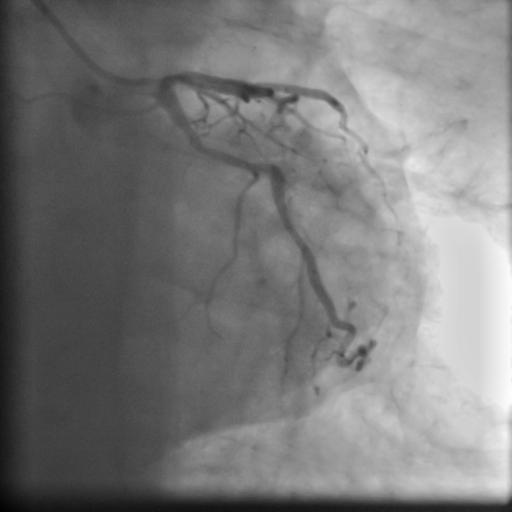Stenosis: (251, 158, 280, 182)
